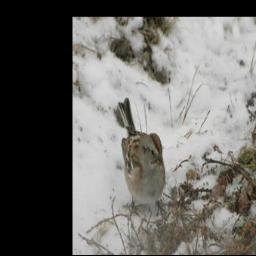Sparrow: (114, 95, 169, 219)
